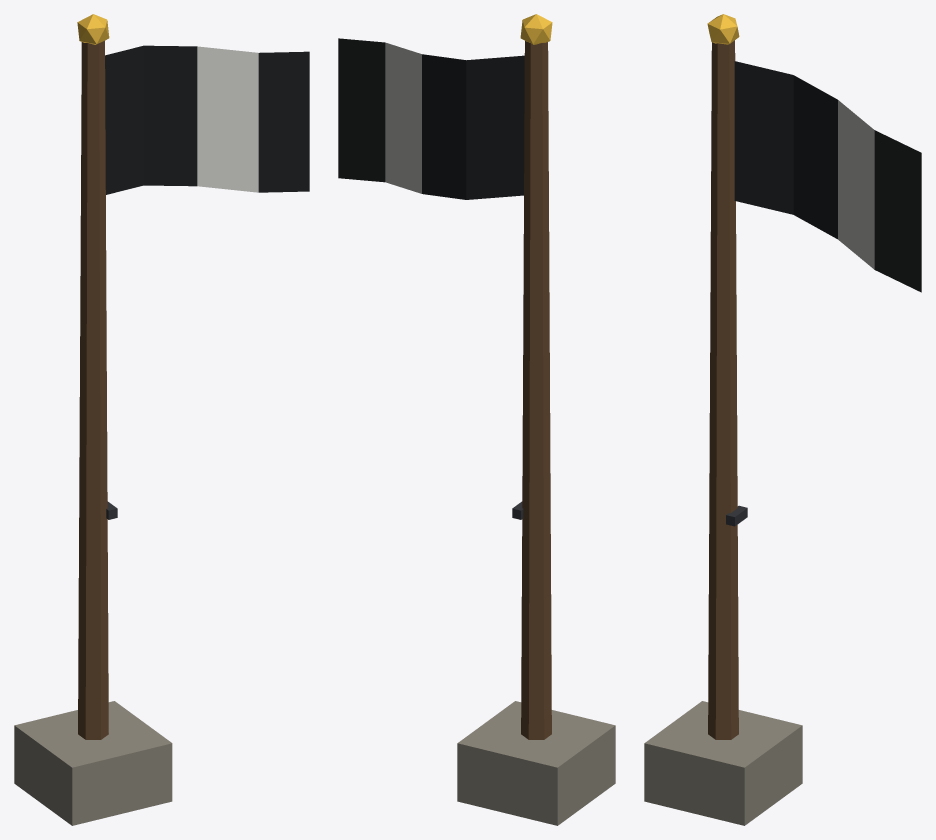
File: Flag_Pole.glb
The picture shows the model from 3 angles, left to right: view 1: azimuth 30°, elevation 25°; view 2: azimuth 150°, elevation 25°; view 3: azimuth 330°, elevation 25°; orthographic projection.
Visible parts, largest first — view 1: Flag_Pole; view 2: Flag_Pole; view 3: Flag_Pole.
Boxes of the visible parts, x1=… form: Flag_Pole: x1=14, y1=14, x2=309, y2=825; Flag_Pole: x1=338, y1=14, x2=615, y2=825; Flag_Pole: x1=644, y1=14, x2=921, y2=825.
Size of the model in its own units: 1.16 by 3.34 by 0.45.
Materials: 1 (1 with a texture image).
